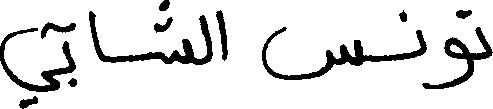X: (261, 22, 361, 84), (0, 17, 59, 108), (444, 5, 473, 92), (160, 0, 193, 68), (64, 18, 75, 91), (90, 6, 103, 66), (216, 5, 228, 65), (475, 22, 492, 64), (199, 10, 211, 69), (416, 25, 426, 93)
